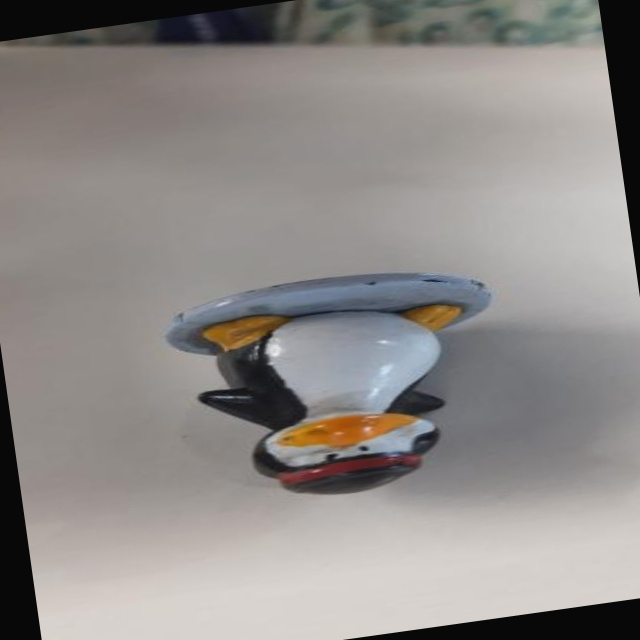Penguin: (130, 219, 542, 542)
